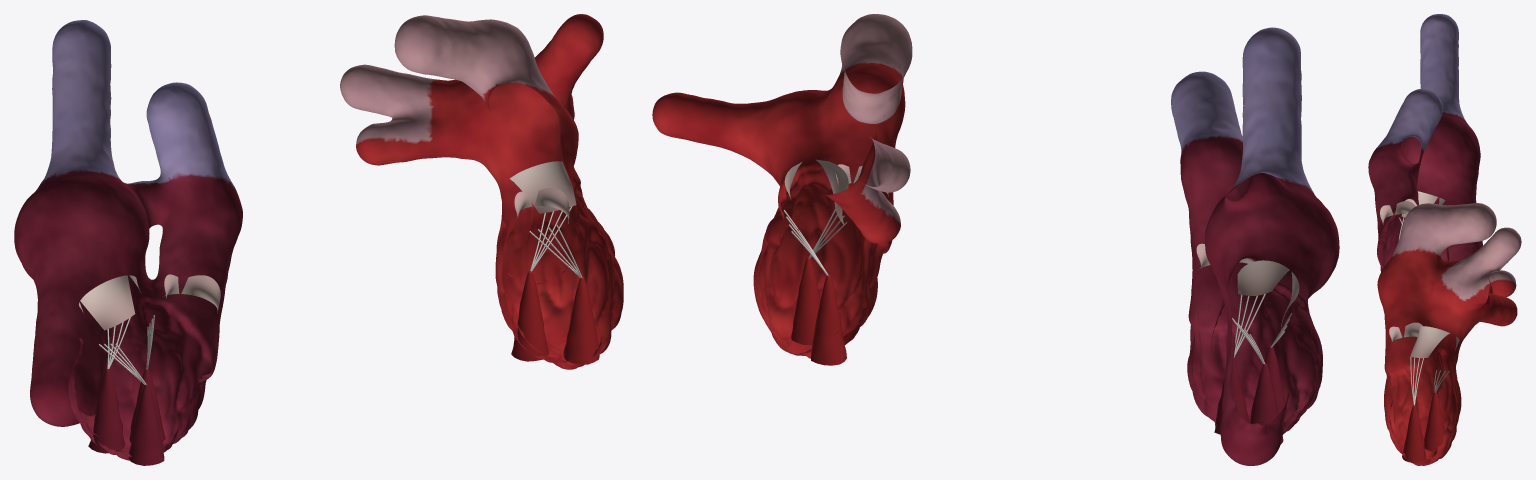
The model's file is in_heart.glb.
3 renders of one model, left to right at view 1: azimuth 30°, elevation 25°; view 2: azimuth 150°, elevation 25°; view 3: azimuth 270°, elevation 25°, orthographic. The views are drawn at different scales.
Parts seen in each view (by area): view 1: heart_right, heart_left, papillary, valve_tricuspid_0, chordae, valve_mitral_0, valve_pulmonary_0, valve_aortic_0; view 2: heart_right, heart_left, papillary, chordae, valve_tricuspid_1, valve_mitral_1; view 3: heart_left, heart_right, papillary, valve_mitral_1, chordae, valve_tricuspid_2, valve_aortic_1, valve_pulmonary_1.
Boxes of the visible parts, left/top/right/bottom form: heart_right: left=14, top=20, right=242, bottom=460; heart_left: left=340, top=14, right=623, bottom=369; papillary: left=88, top=271, right=599, bottom=465; valve_tricuspid_0: left=80, top=275, right=135, bottom=330; chordae: left=99, top=206, right=582, bottom=384; valve_mitral_0: left=509, top=161, right=576, bottom=213; valve_pulmonary_0: left=181, top=275, right=220, bottom=313; valve_aortic_0: left=534, top=187, right=569, bottom=223; heart_right: left=1171, top=27, right=1339, bottom=465; heart_left: left=652, top=14, right=912, bottom=358; papillary: left=791, top=257, right=1287, bottom=444; chordae: left=783, top=208, right=1292, bottom=364; valve_tricuspid_1: left=1237, top=260, right=1289, bottom=295; valve_mitral_1: left=816, top=159, right=848, bottom=225; heart_left: left=1377, top=203, right=1521, bottom=465; heart_right: left=1368, top=14, right=1482, bottom=271; papillary: left=1402, top=392, right=1444, bottom=462; valve_mitral_1: left=1410, top=326, right=1449, bottom=358; chordae: left=1398, top=217, right=1449, bottom=405; valve_tricuspid_2: left=1401, top=191, right=1437, bottom=217; valve_aortic_1: left=1404, top=322, right=1426, bottom=339; valve_pulmonary_1: left=1395, top=201, right=1415, bottom=214.
Size of the model in its own units: 22.66 by 15.54 by 7.28.
